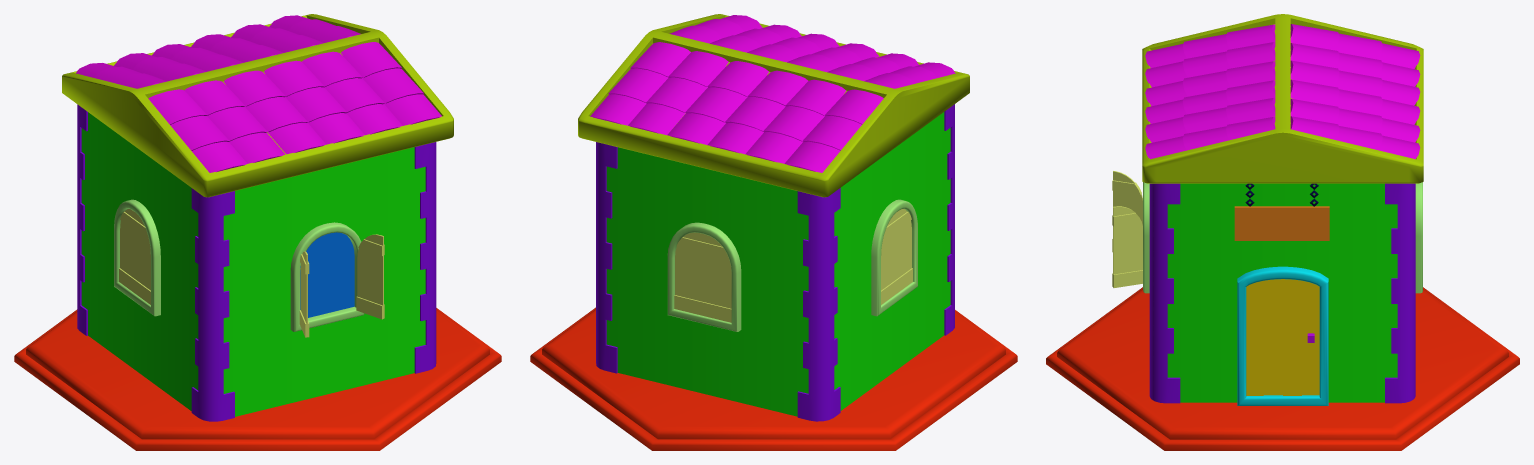
File: Shop.fbx
3 views of the same model, side by side, from view 1: azimuth 30°, elevation 25°; view 2: azimuth 150°, elevation 25°; view 3: azimuth 270°, elevation 25° (orthographic). The views are drawn at different scales.
Parts seen in each view (by area): view 1: Building, Tiles, Base, Roof; view 2: Building, Tiles, Base, Roof; view 3: Building, Base, Tiles, Roof, WoodSign.
Boxes of the visible parts, x1,y1,x2,y2 form: Building: [77, 104, 436, 421]; Tiles: [76, 15, 441, 172]; Base: [14, 308, 501, 450]; Roof: [62, 14, 453, 197]; Building: [596, 104, 954, 421]; Tiles: [590, 15, 955, 172]; Base: [530, 307, 1017, 450]; Roof: [578, 14, 969, 197]; Building: [1112, 171, 1422, 405]; Base: [1046, 287, 1519, 450]; Tiles: [1145, 24, 1420, 159]; Roof: [1142, 14, 1423, 183]; WoodSign: [1234, 183, 1329, 240].
Bounding box in the file's own units: 327 × 256 × 377.
